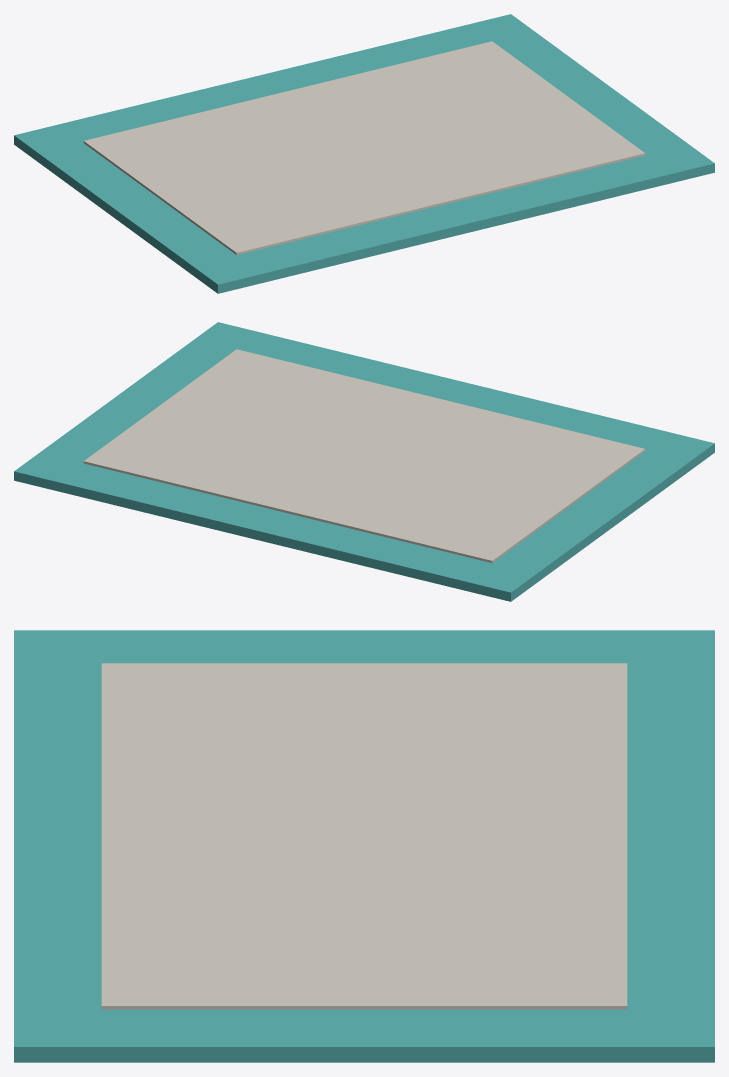
Rendered from mesa_jogo_americano.glb.
3 renders of one model, top to bottom at view 1: azimuth 30°, elevation 25°; view 2: azimuth 150°, elevation 25°; view 3: azimuth 270°, elevation 25°, orthographic. The views are drawn at different scales.
Parts seen in each view (by area): view 1: MESA_JOGO_AMERICANO_v01; view 2: MESA_JOGO_AMERICANO_v01; view 3: MESA_JOGO_AMERICANO_v01.
Boxes of the visible parts, x1,y1,x2,y2 form: MESA_JOGO_AMERICANO_v01: [14, 14, 714, 293]; MESA_JOGO_AMERICANO_v01: [14, 322, 714, 601]; MESA_JOGO_AMERICANO_v01: [14, 630, 714, 1062].
Bounding box in the file's own units: 0.45 × 0.01 × 0.32.
